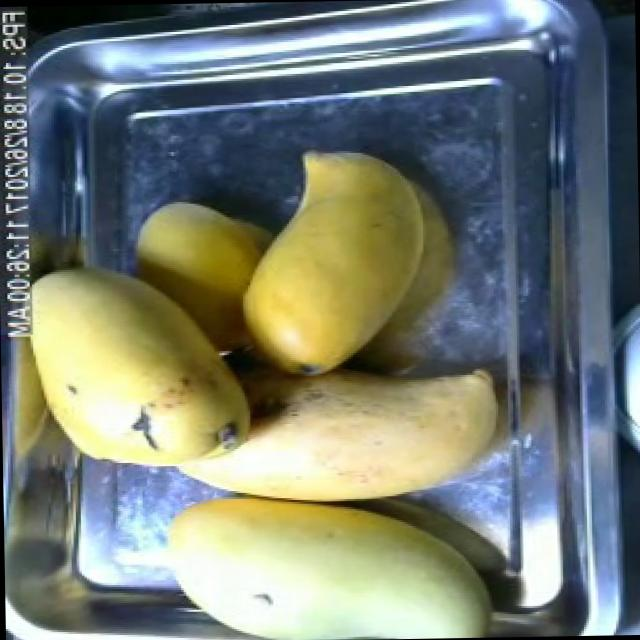fruit: (12, 247, 274, 489), (223, 134, 445, 392), (192, 340, 516, 512), (147, 501, 516, 640)
